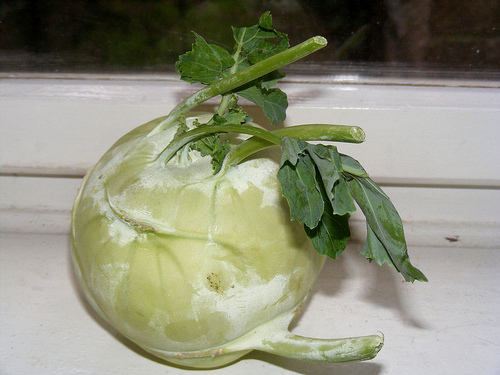turnip: (70, 10, 429, 370)
